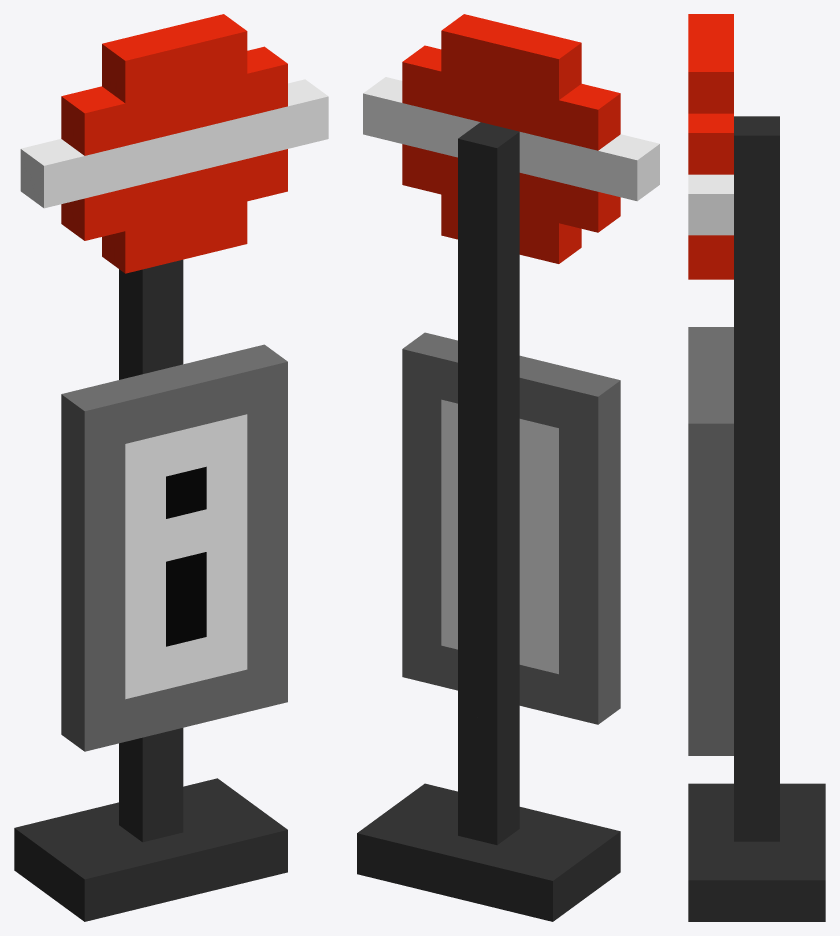
Rendered from Stop.obj.
3 renders of one model, left to right at view 1: azimuth 30°, elevation 25°; view 2: azimuth 150°, elevation 25°; view 3: azimuth 270°, elevation 25°, orthographic. The views are drawn at different scales.
Parts seen in each view (by area): view 1: 立方体.001; view 2: 立方体.001; view 3: 立方体.001.
Part boxes in pixels (x1,y1,x2,y2): 立方体.001: [14, 14, 328, 921]; 立方体.001: [357, 14, 659, 921]; 立方体.001: [688, 14, 825, 921].
Bounding box in the file's own units: 7 × 20 × 3.
